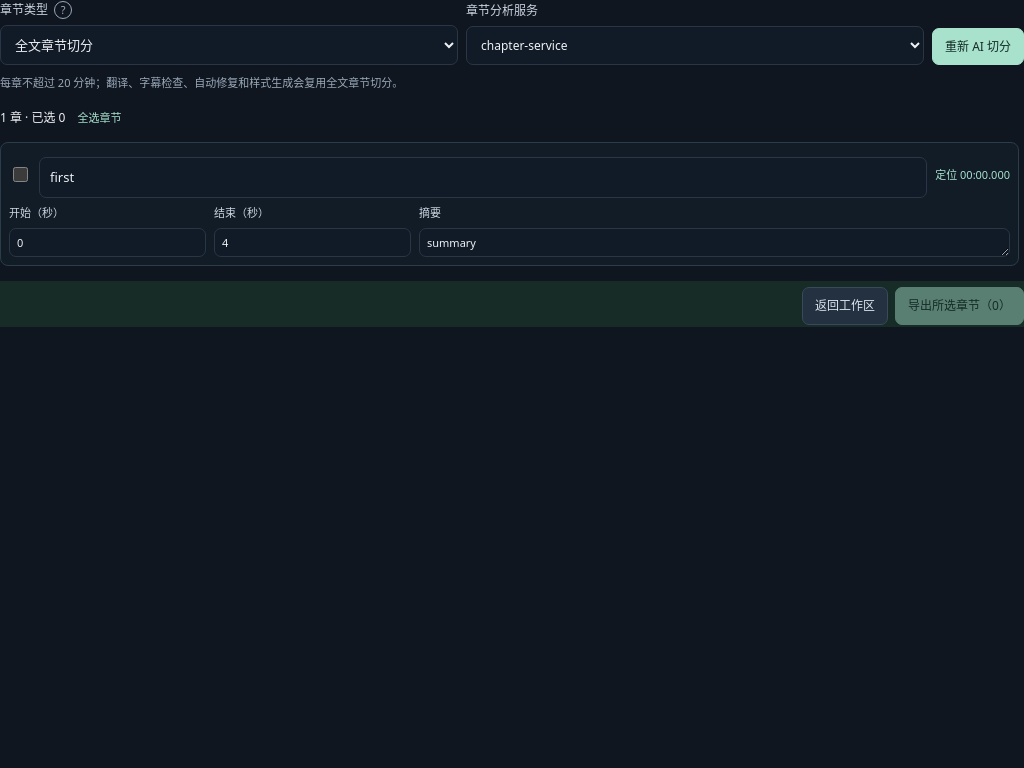
Test: chapter panel explicit operations › explains full chapter reuse and recognition/name exceptions without starting work
Click the button named "了解全文章节切分".
click(63, 10)  # box [54,1,72,19]
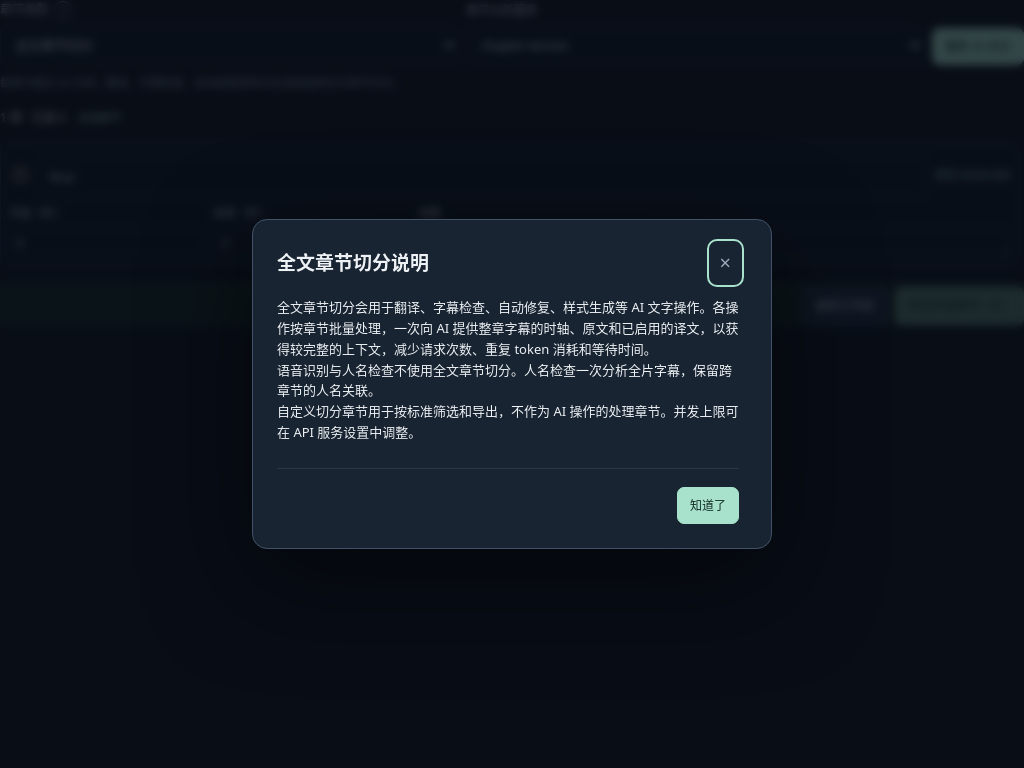
Now the dialog "全文章节切分说明" shows "整章字幕的时轴、原文和已启用的译文", box [277,298,738,358]
Now the dialog "全文章节切分说明" shows "语音识别与人名检查不使用全文章节切分", box [277,360,732,399]
Click the button "知道了".
click(708, 505)  # box [677,487,739,524]
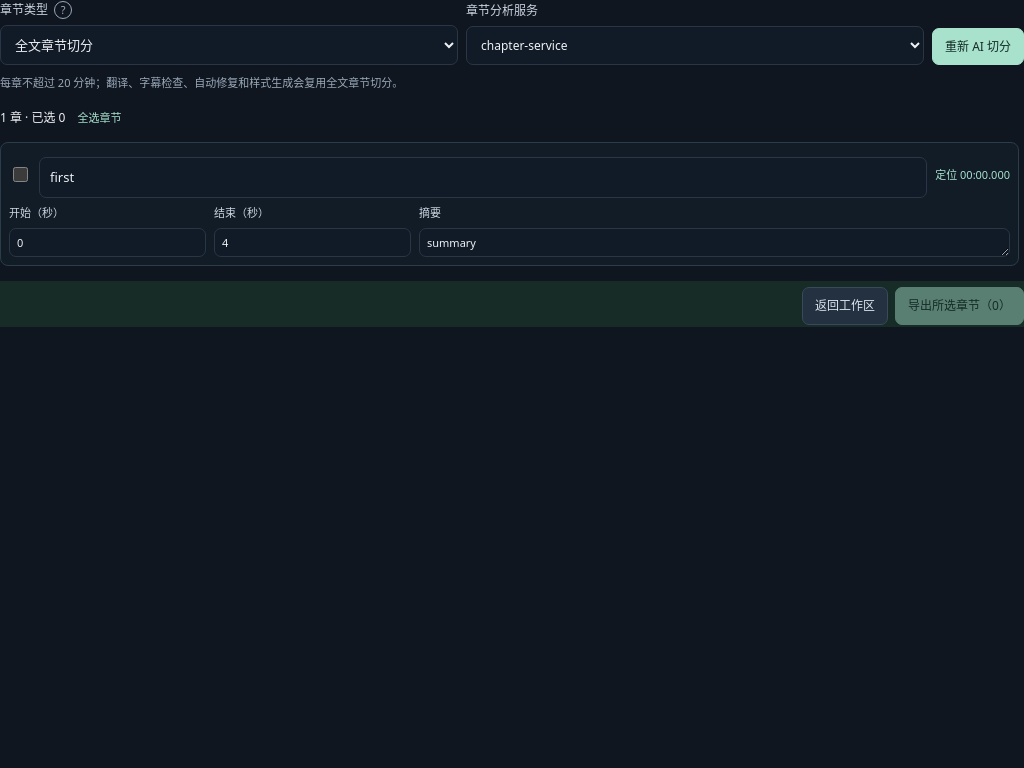
Now the dialog is gone
